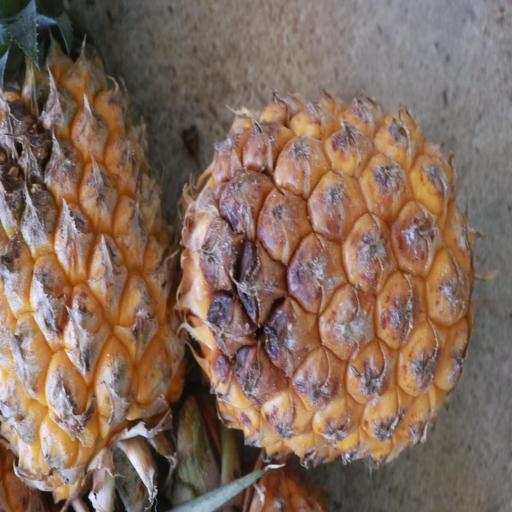Pineapple - v8 v1: (180, 104, 475, 478), (1, 2, 185, 510)
